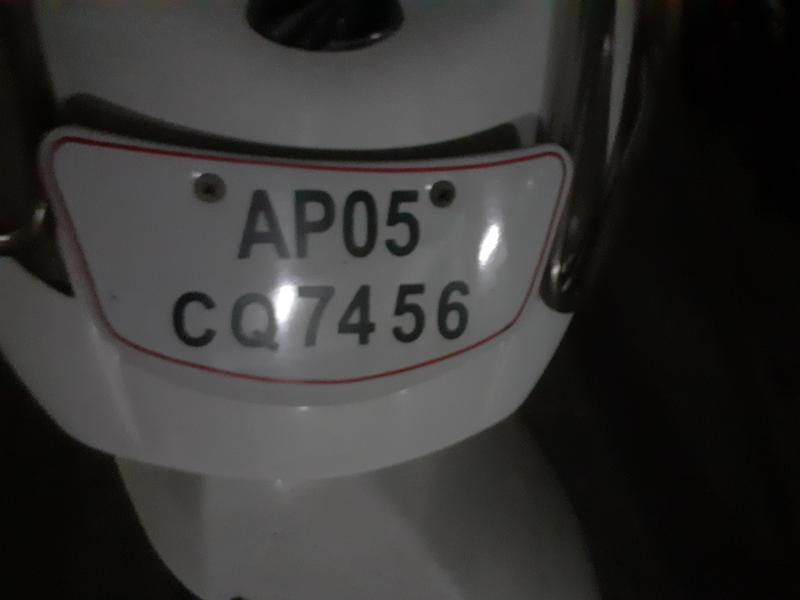numberplate: (56, 144, 579, 380)
